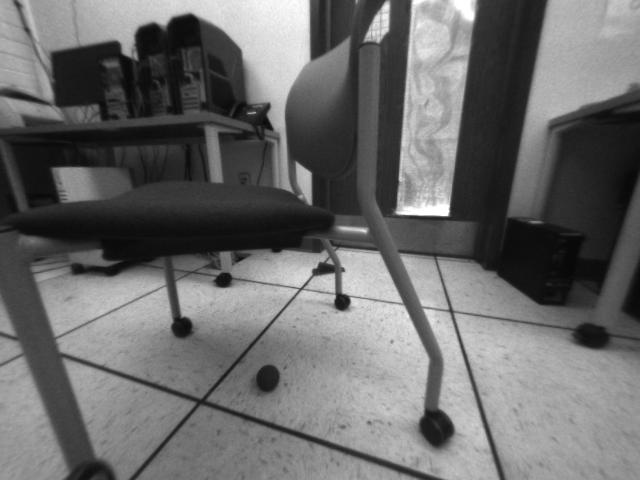dogtoy: (251, 360, 290, 397)
